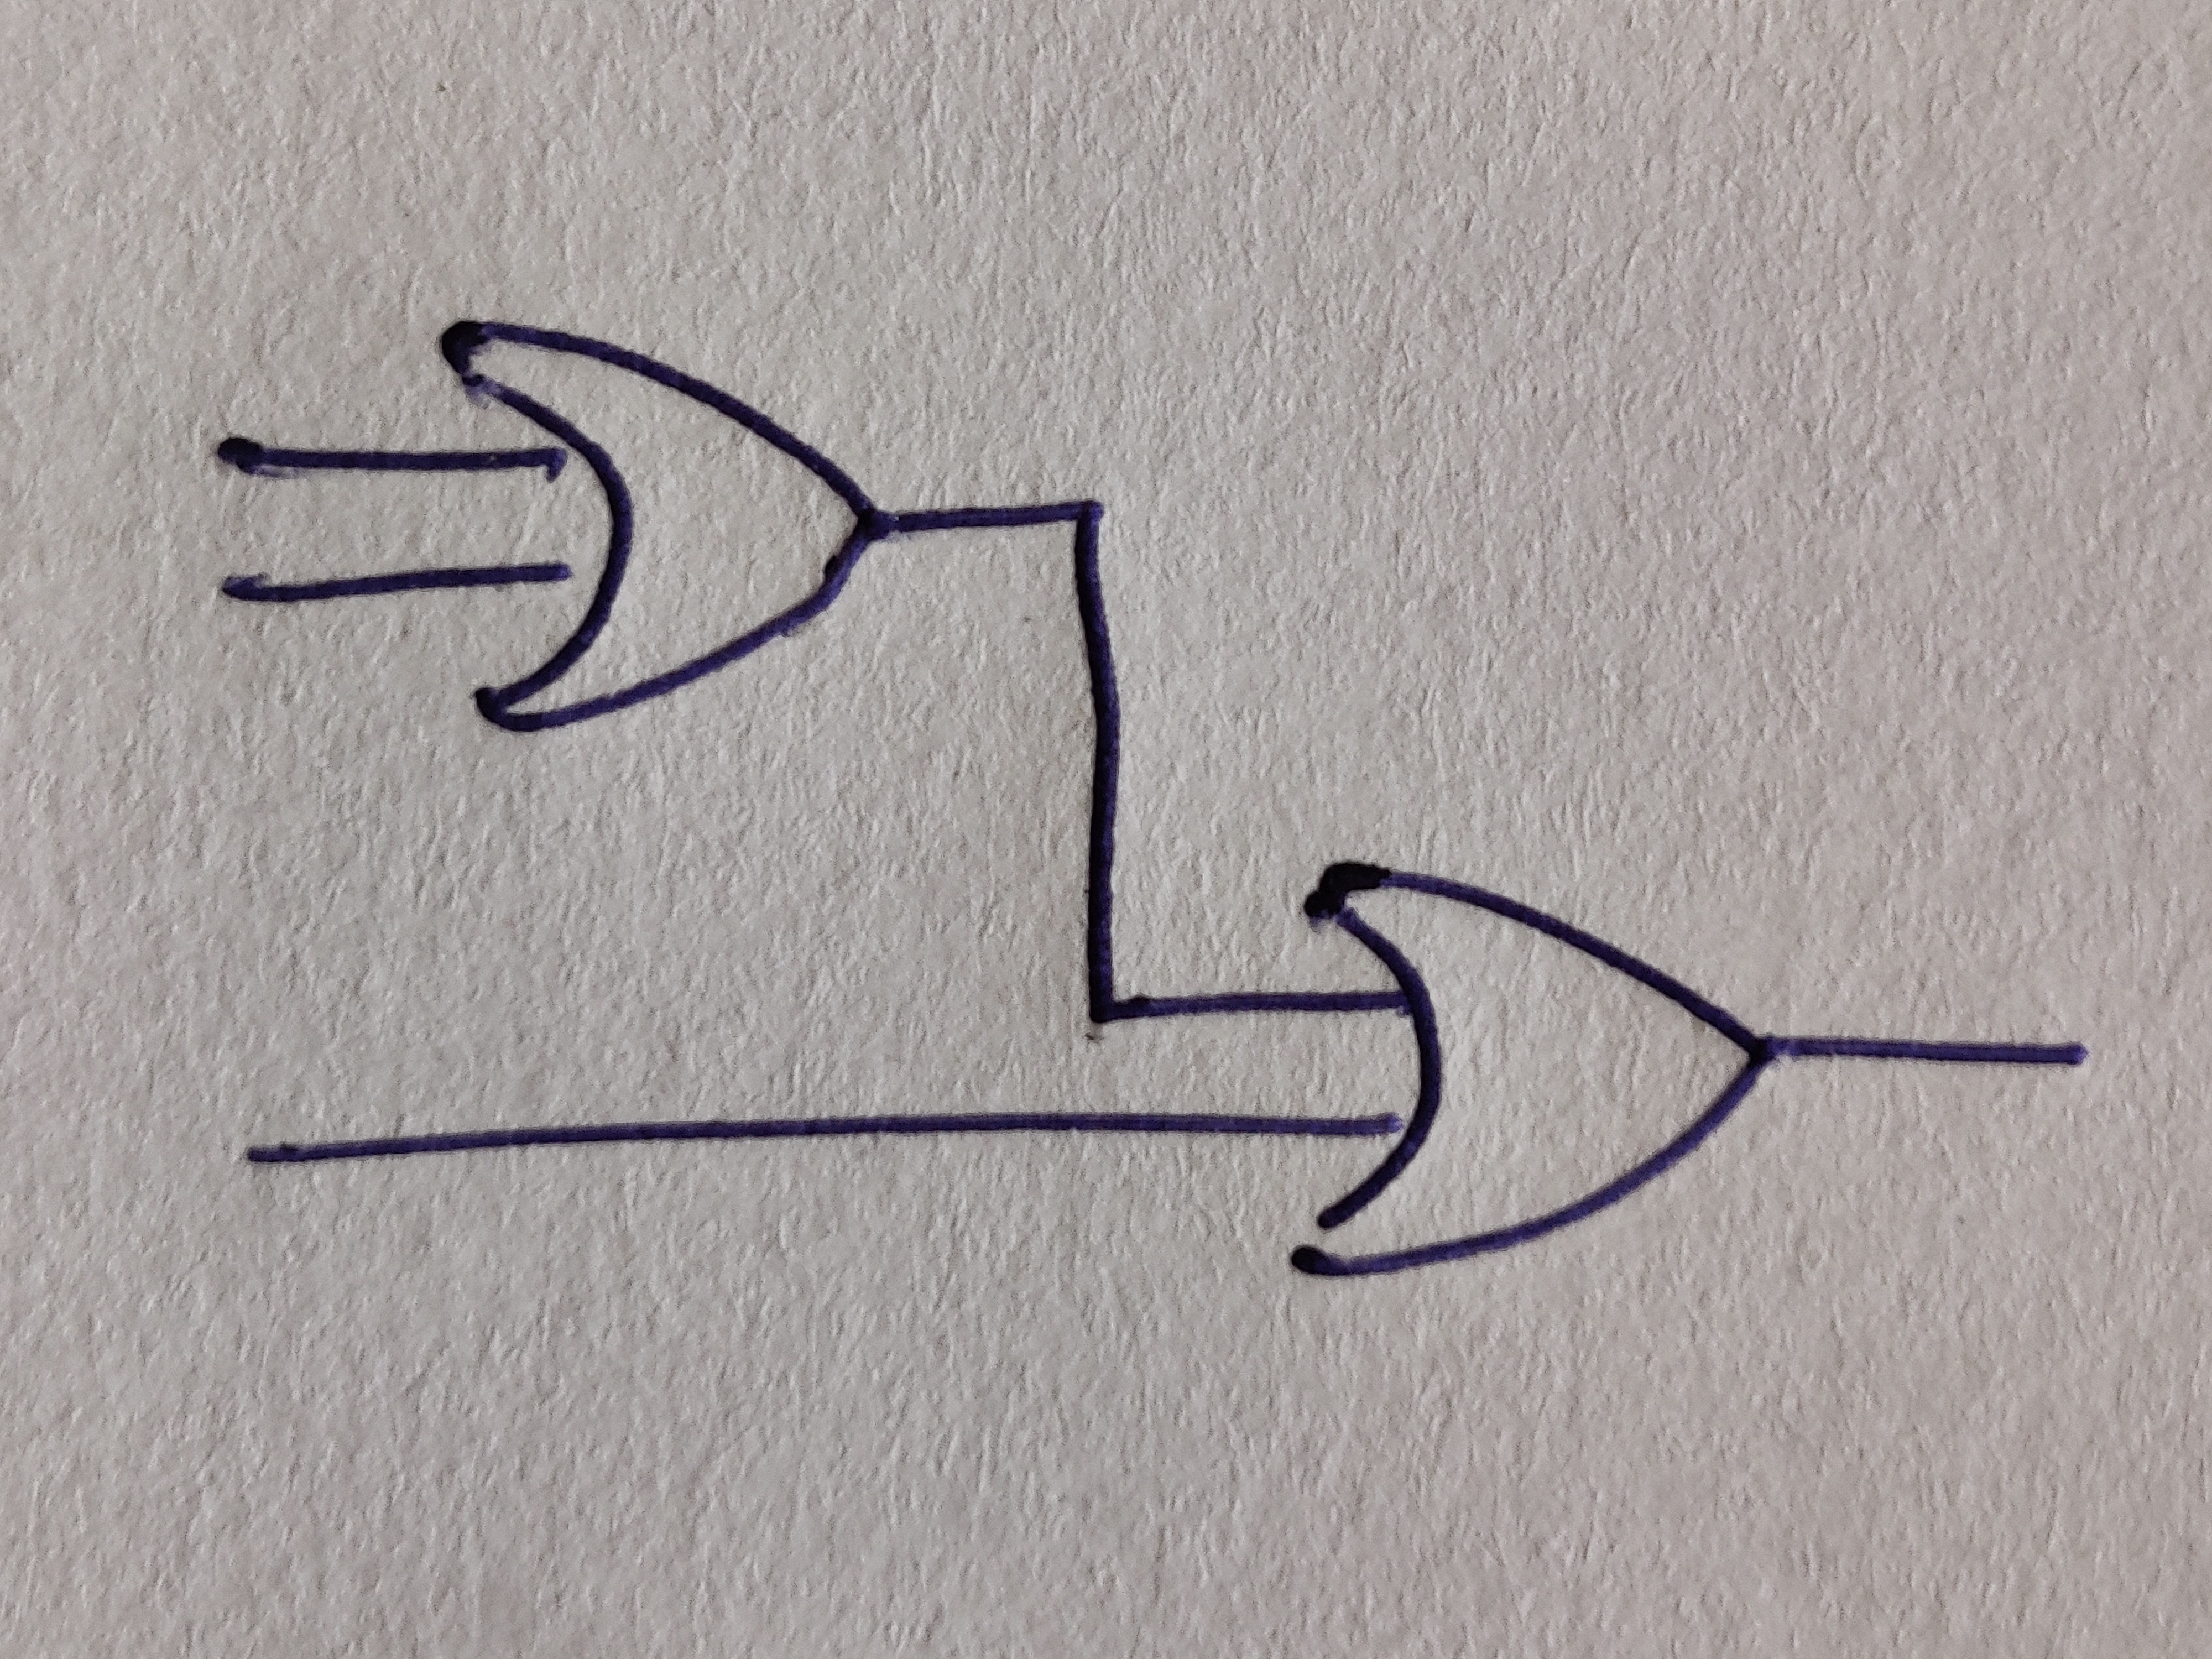or: (1291, 861, 1775, 1279), (439, 319, 885, 734)
